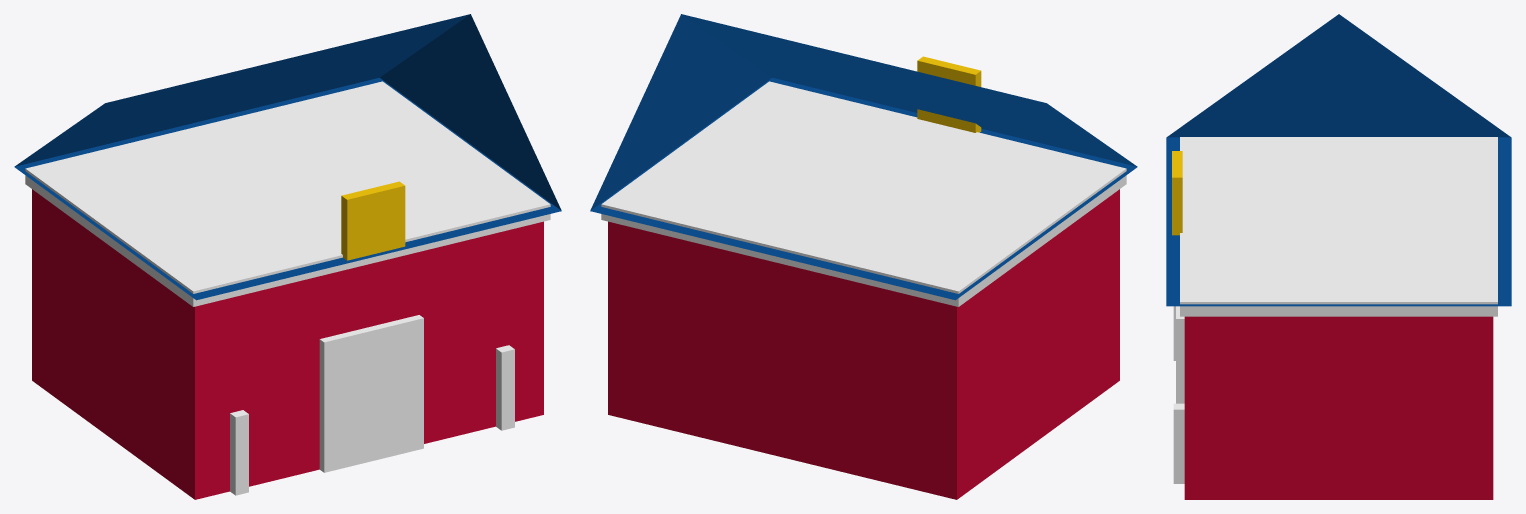
File: barn.glb
3 views of the same model, side by side, from view 1: azimuth 30°, elevation 25°; view 2: azimuth 150°, elevation 25°; view 3: azimuth 270°, elevation 25° (orthographic). The views are drawn at different scales.
Size of the model in its own units: 4.4 by 3.9 by 3.8.
